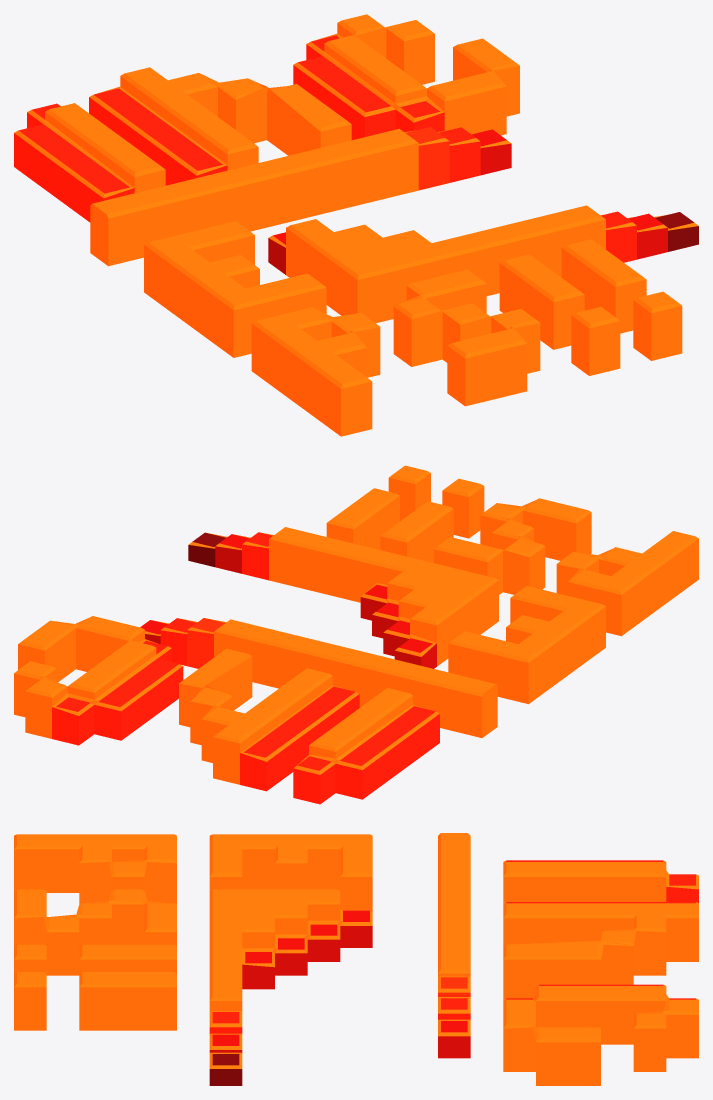
Rendered from newsha-51.glb.
3 renders of one model, top to bottom at view 1: azimuth 30°, elevation 25°; view 2: azimuth 150°, elevation 25°; view 3: azimuth 270°, elevation 25°, orthographic. The views are drawn at different scales.
Parts seen in each view (by area): view 1: newsha-51; view 2: newsha-51; view 3: newsha-51.
Part boxes in pixels (x1=…): newsha-51: x1=14, y1=14, x2=698, y2=436; newsha-51: x1=14, y1=465, x2=698, y2=804; newsha-51: x1=14, y1=833, x2=698, y2=1085.
Bounding box in the file's own units: 1.25 × 0.1375 × 1.75.
